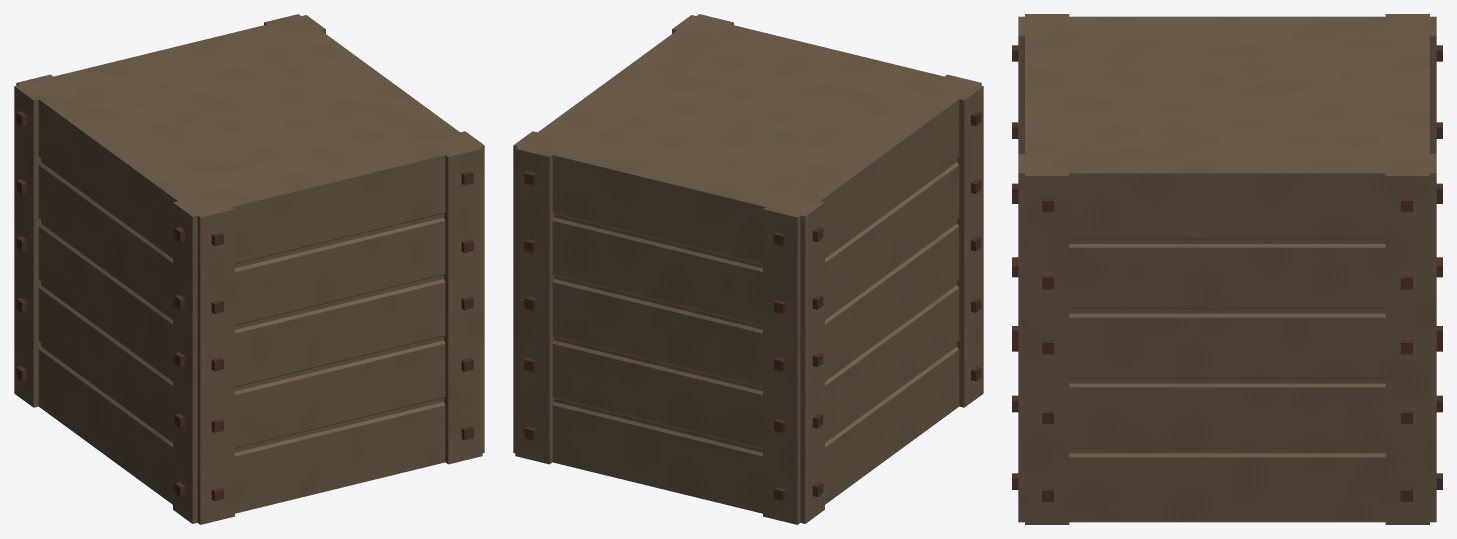
File: BoxCube.fbx
The picture shows the model from 3 angles, left to right: view 1: azimuth 30°, elevation 25°; view 2: azimuth 150°, elevation 25°; view 3: azimuth 270°, elevation 25°; orthographic projection. The views are drawn at different scales.
Visible parts, largest first — view 1: Cube.029; view 2: Cube.029; view 3: Cube.029.
Boxes of the visible parts, x1,y1,x2,y2 form: Cube.029: (14,14,484,524); Cube.029: (513,14,983,524); Cube.029: (1012,14,1442,524).
Size of the model in its own units: 118 by 115 by 128.
